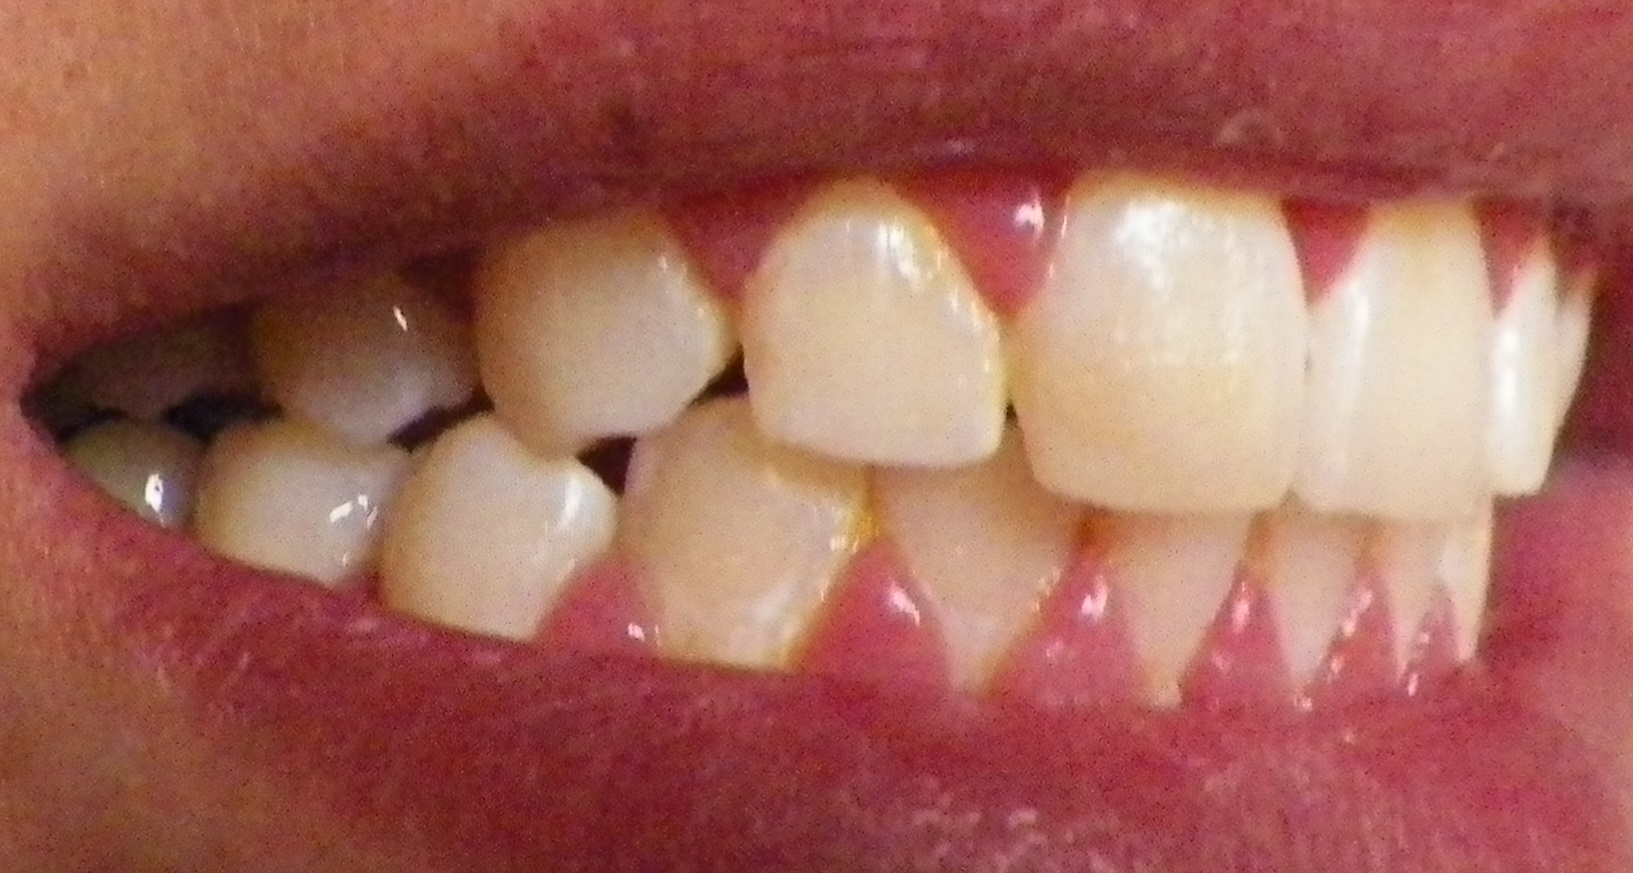boca: (93, 200, 1601, 679)
